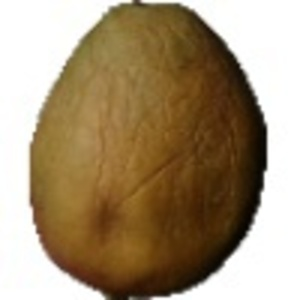mamão: (24, 5, 288, 294)
